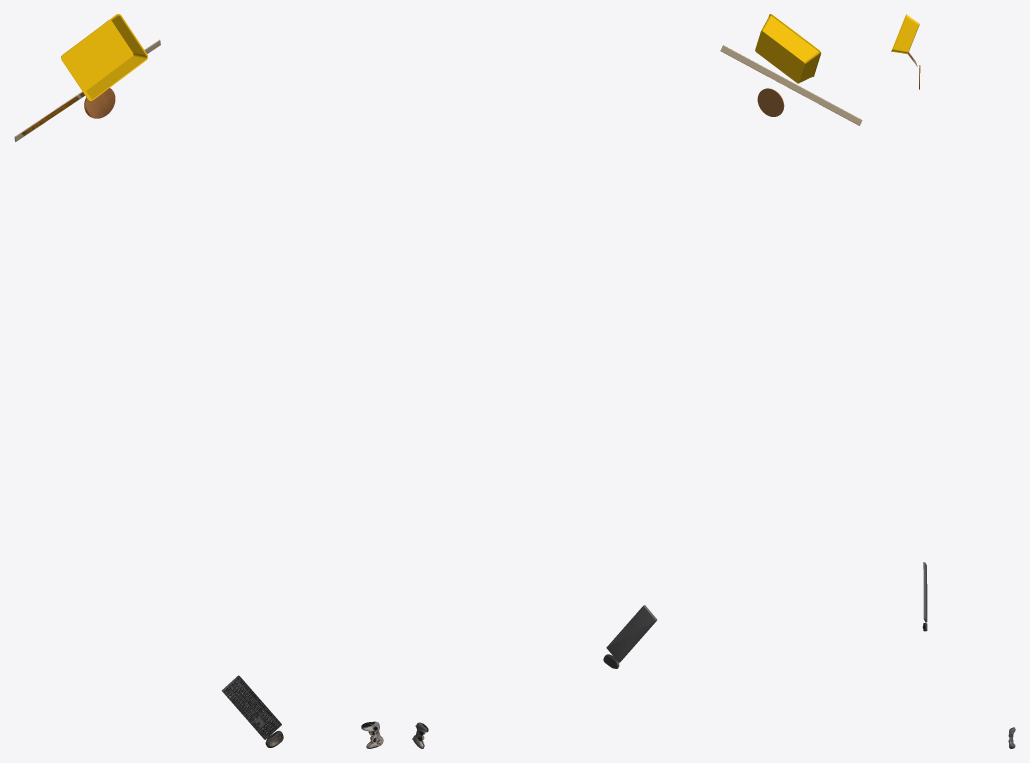
Rendered from props-8.glb.
3 views of the same model, side by side, from view 1: azimuth 30°, elevation 25°; view 2: azimuth 150°, elevation 25°; view 3: azimuth 270°, elevation 25° (orthographic). The views are drawn at different scales.
Parts seen in each view (by area): view 1: HCRG_Tray1290_SourceFit01_OpenShell_001, geometry_0_098, observed_top; view 2: HCRG_Tray1290_SourceFit01_OpenShell_001, geometry_1, part0_fallback_008; view 3: HCRG_Tray1290_SourceFit01_OpenShell_001, geometry_1.
Part boxes in pixels (box(x1,y1,x2,y2)): HCRG_Tray1290_SourceFit01_OpenShell_001: box(61, 14, 147, 100); geometry_0_098: box(222, 676, 281, 739); observed_top: box(84, 88, 115, 118); HCRG_Tray1290_SourceFit01_OpenShell_001: box(755, 14, 821, 83); geometry_1: box(606, 605, 657, 662); part0_fallback_008: box(720, 45, 862, 125); HCRG_Tray1290_SourceFit01_OpenShell_001: box(891, 14, 919, 54); geometry_1: box(923, 562, 927, 622).
Bounding box in the file's own units: 2.73 × 5.13 × 0.9315.
16 materials, 6 textured.
